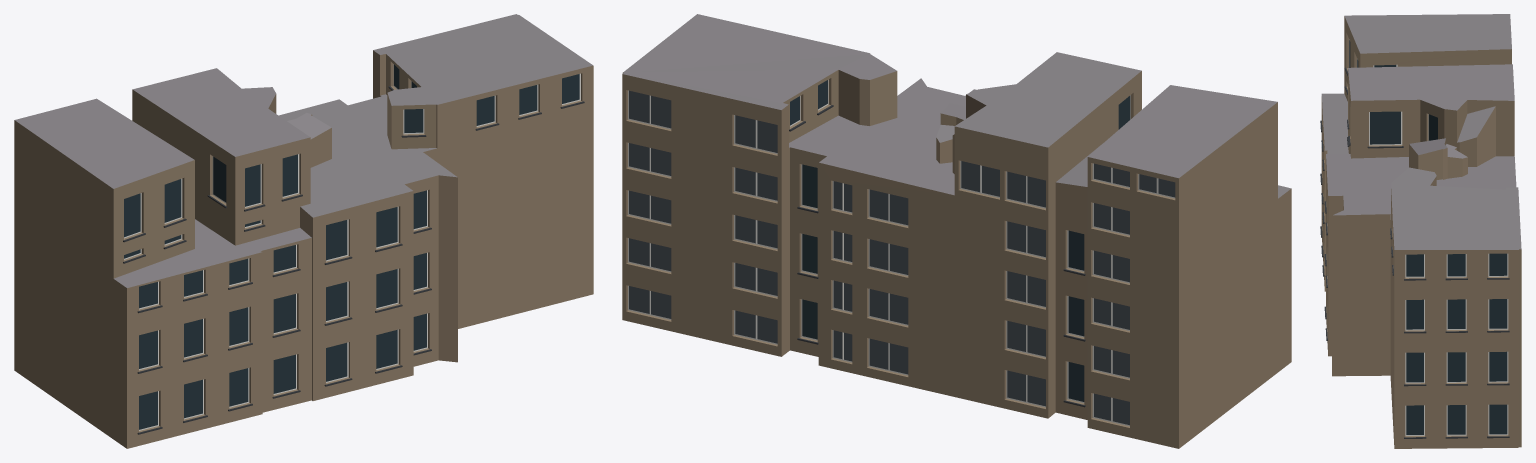
File: recipe-large-haarlemmerweg-63-081533.glb
3 views of the same model, side by side, from view 1: azimuth 30°, elevation 25°; view 2: azimuth 150°, elevation 25°; view 3: azimuth 270°, elevation 25° (orthographic). The views are drawn at different scales.
Visible parts, largest first — view 1: haarlemmerweg-63-081533; view 2: haarlemmerweg-63-081533; view 3: haarlemmerweg-63-081533.
Part boxes in pixels (<box>): haarlemmerweg-63-081533: <box>14,14,593,448</box>; haarlemmerweg-63-081533: <box>622,14,1291,448</box>; haarlemmerweg-63-081533: <box>1320,14,1521,448</box>.
Size of the model in its own units: 34.18 by 15.96 by 13.34.
